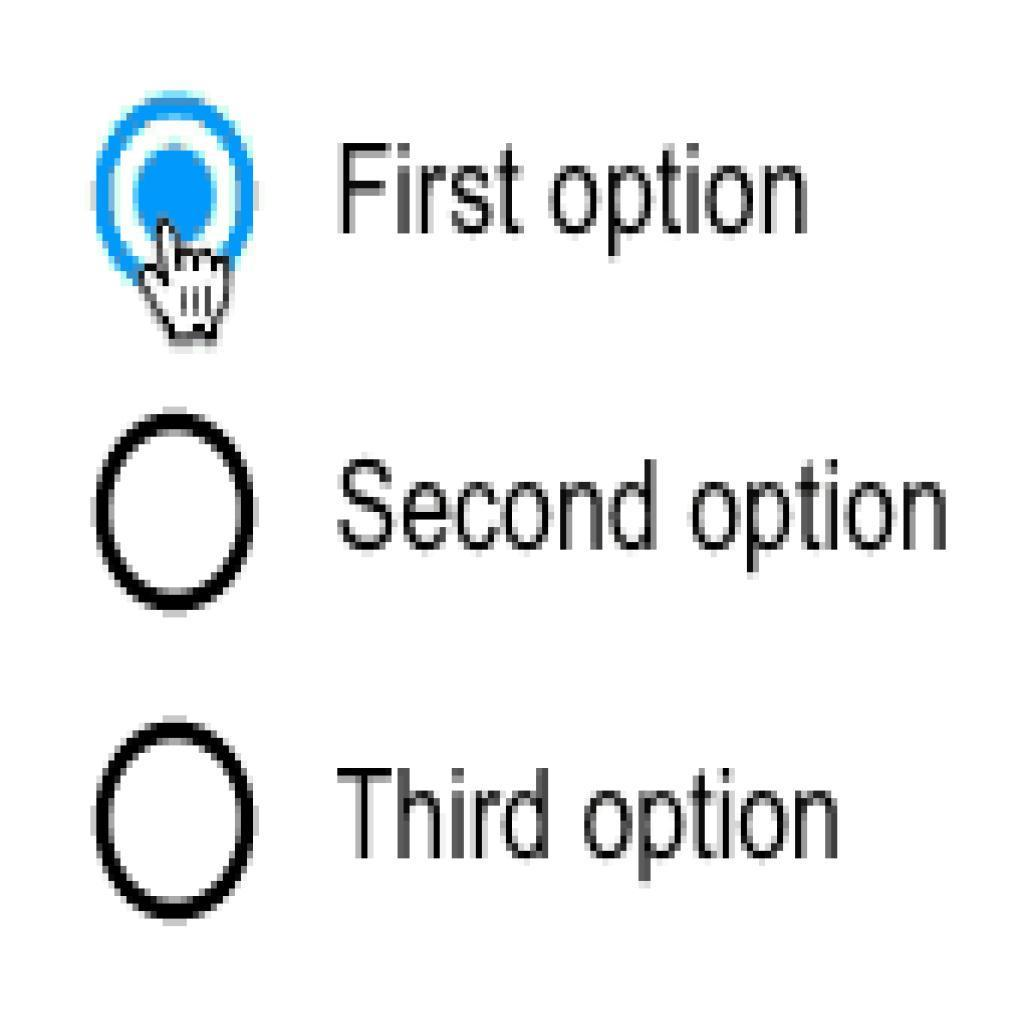label: (332, 448, 967, 585), (330, 757, 844, 896), (330, 130, 823, 268)
radio: (87, 406, 262, 620), (90, 90, 262, 306), (90, 714, 264, 926)
